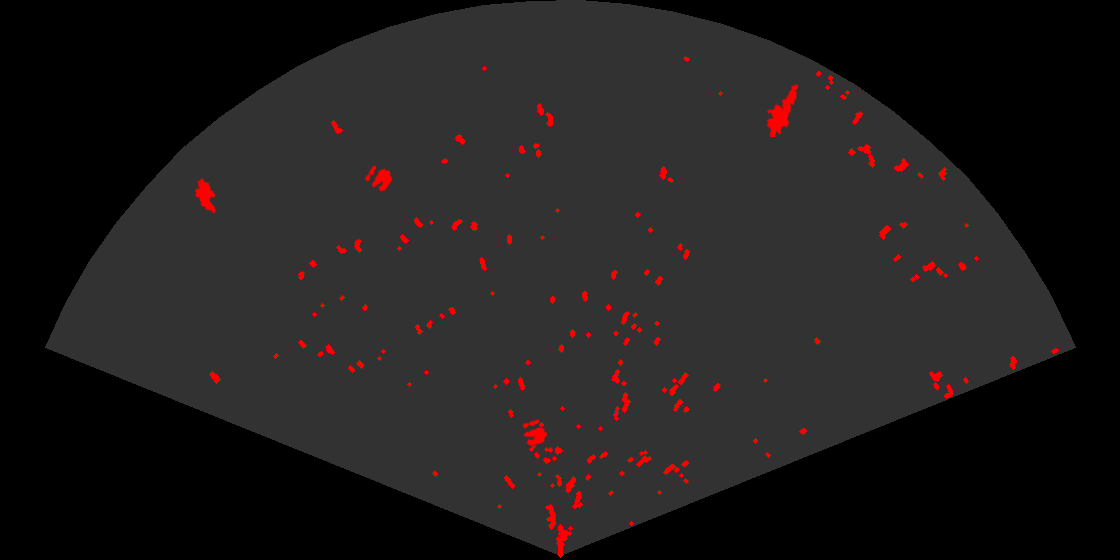AUV: (193, 177, 218, 215)
ball: (363, 164, 394, 193), (521, 418, 549, 448)
frogman: (765, 82, 800, 137)
